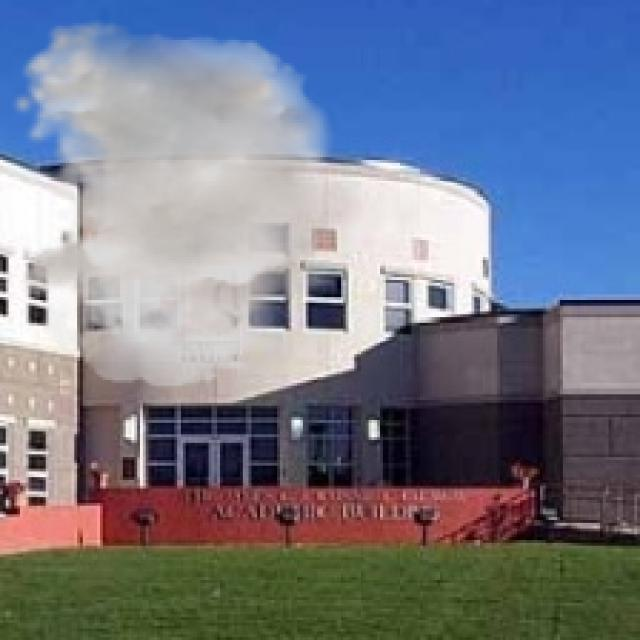smoke: (11, 20, 380, 389)
